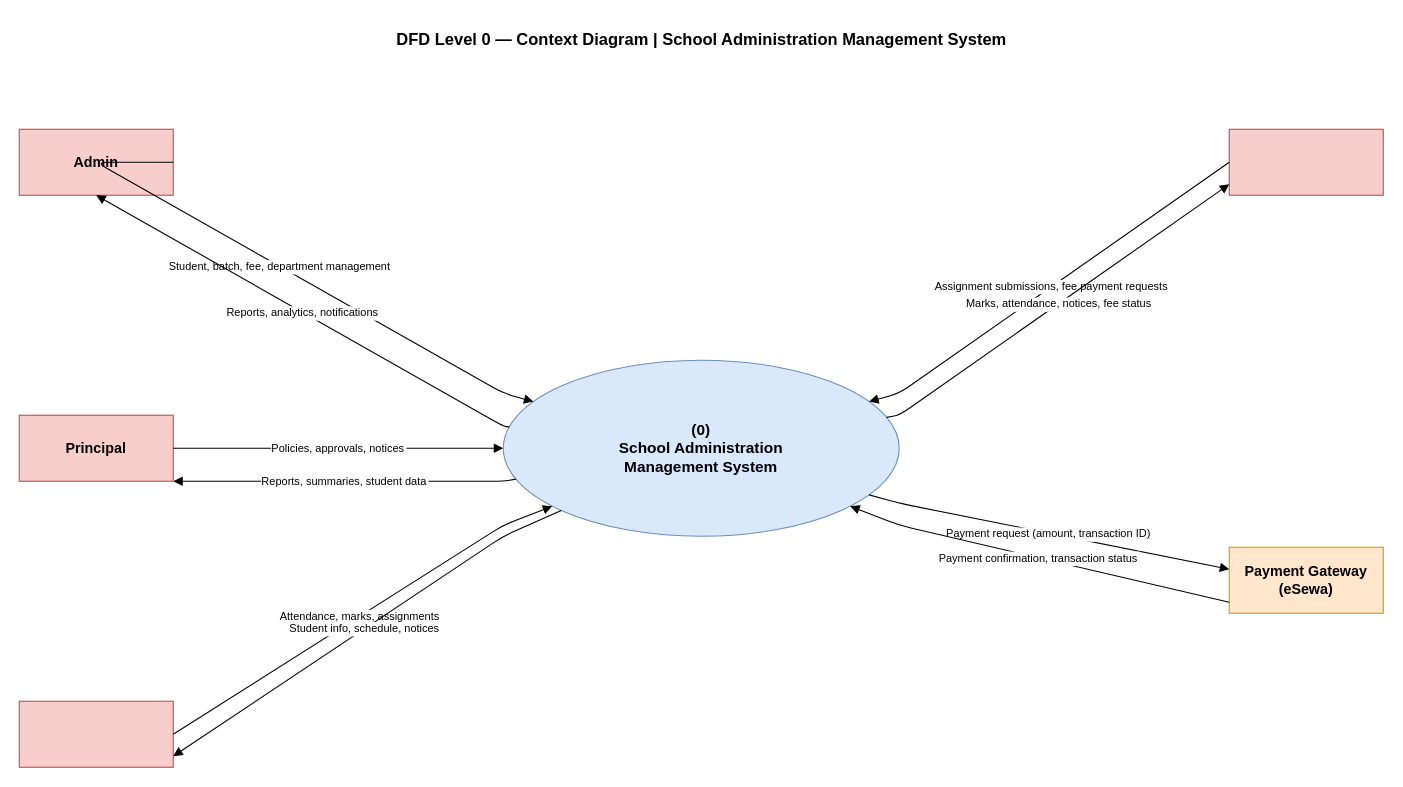
The diagram is 1403 pixels wide and 787 high, and some of its shapes have lost their labels. The centre of each missing label's shape, as x and y in pixels:
"Student" belongs at point 1305,161.
"Teacher" belongs at point 95,733.
